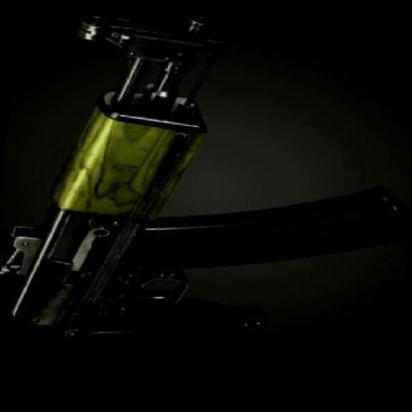Gun: (2, 8, 412, 377)
